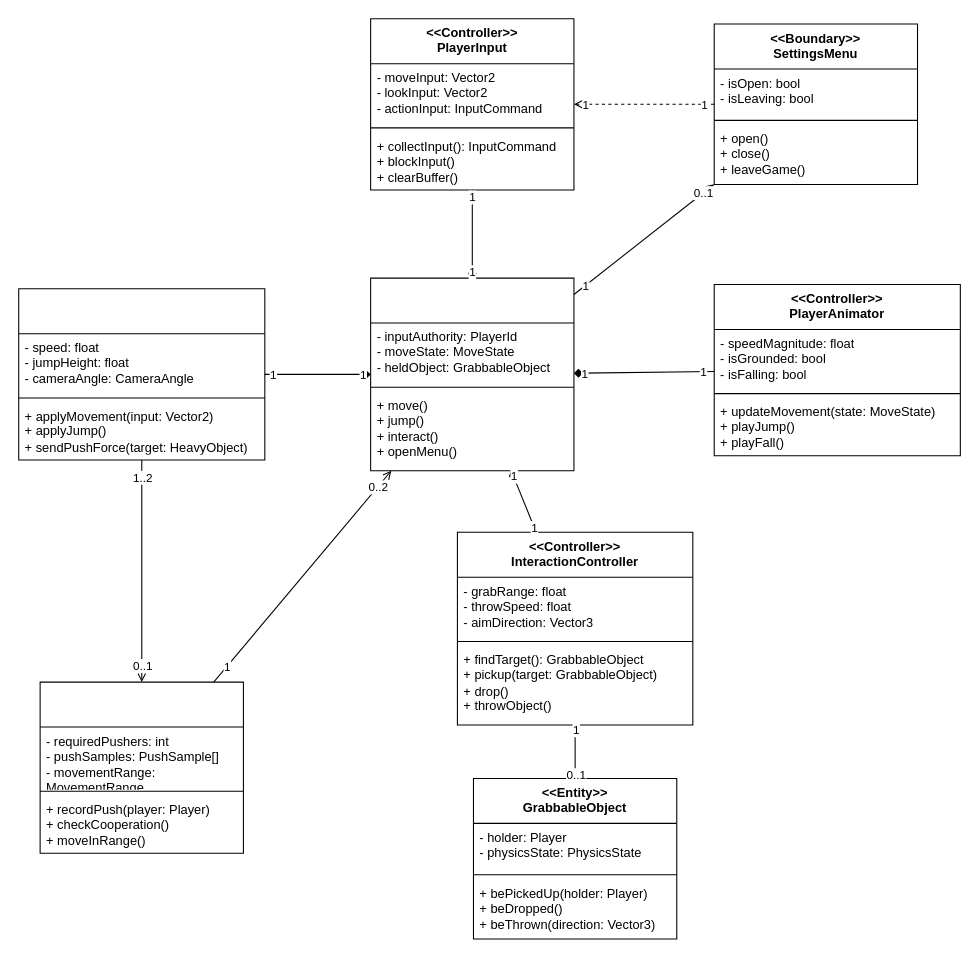
Some shapes in this 979 by 961 pixel diagram are drawn without their labels. The shapes that lost their labels are listed below. From the top down, each one's box as (x1, y1, x2, y2) in pixels, then its label:
(18, 288, 265, 460): <<Controller>> MovementController
(370, 277, 574, 471): <<Entity>> Player
(39, 681, 243, 853): <<Entity>> HeavyObject
